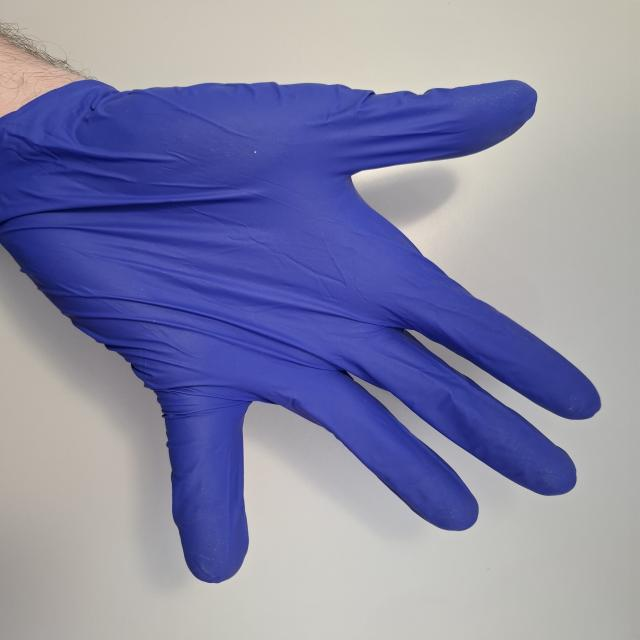glove_on: (1, 67, 606, 586)
